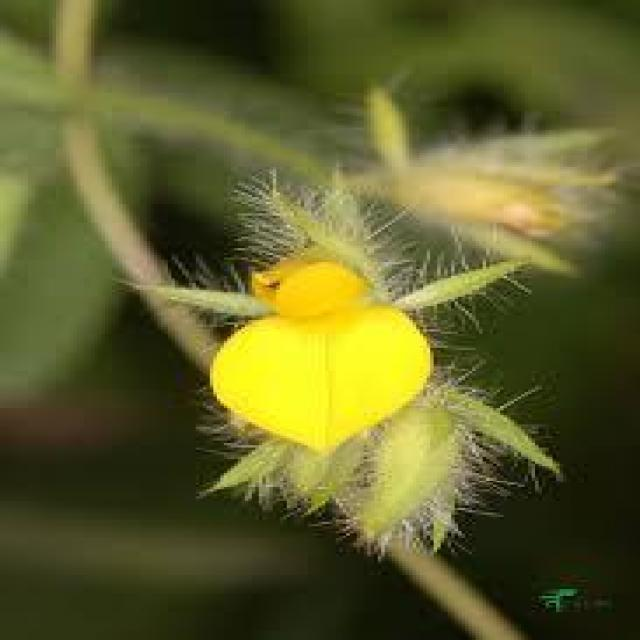organic waste: (201, 246, 453, 434)
